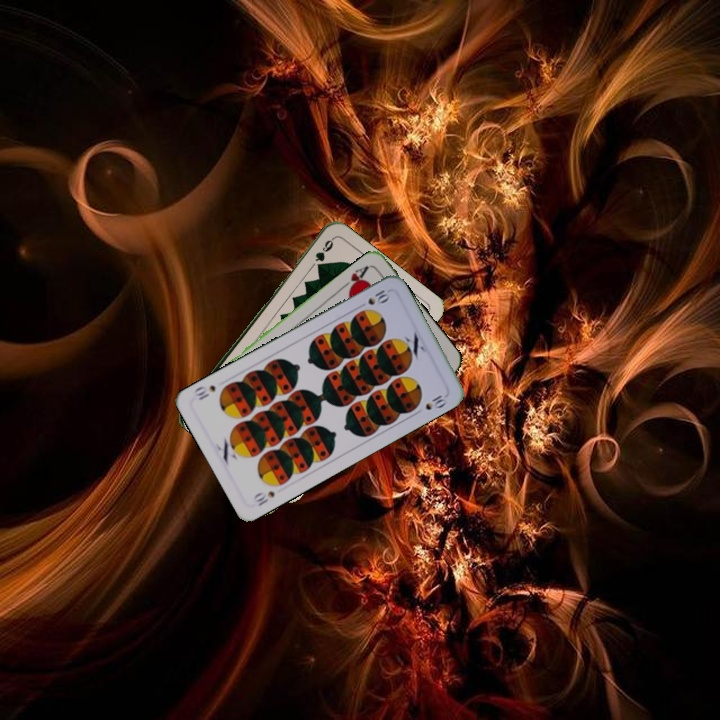G9: (311, 234, 336, 264)
HA: (338, 261, 372, 295)
S10: (363, 286, 393, 308), (249, 487, 278, 509)
